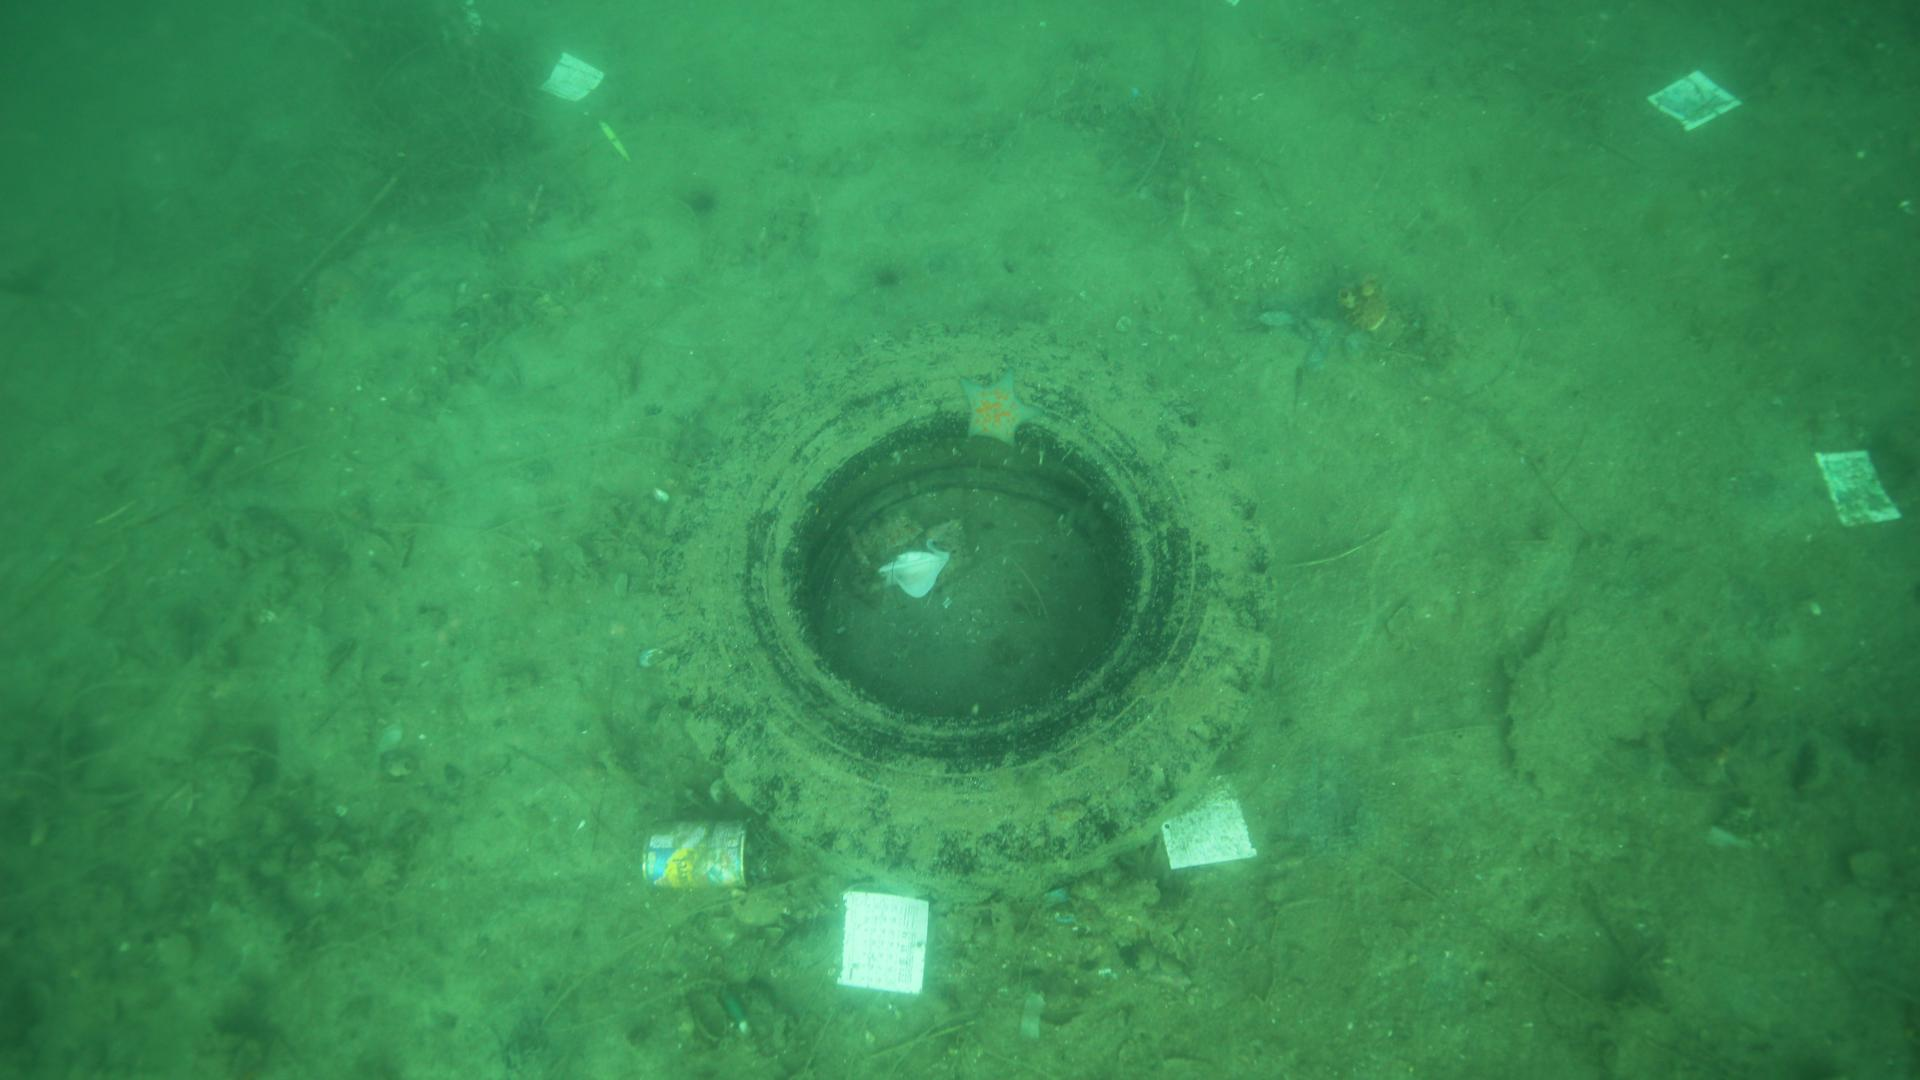tire: (644, 320, 1283, 916)
